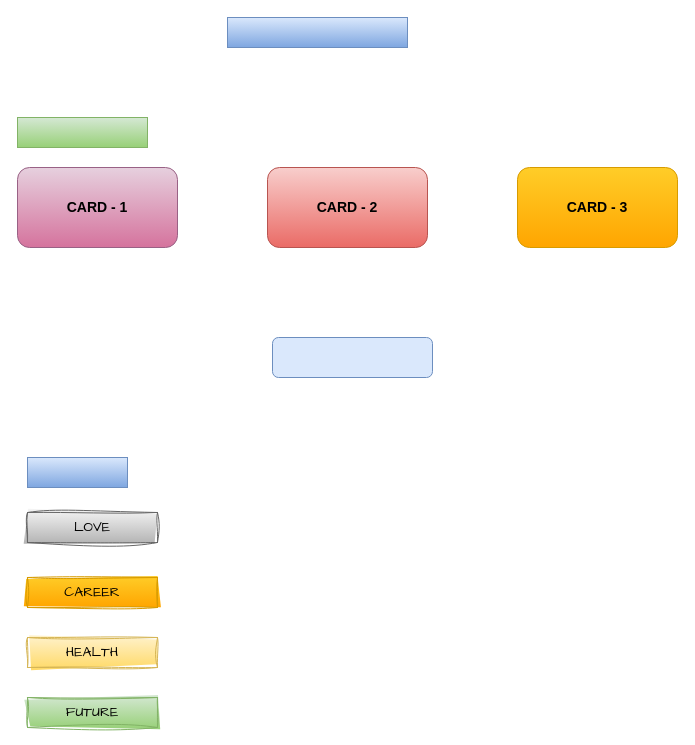
Some shapes in this 695 by 745 pixel diagram are drawn without their labels. Here are the shapes that lost their labels. From the top down, the centre of each, then its label:
At pixel 317 32: "Tarot Reading".
At pixel 82 132: "Select 3 Cards".
At pixel 352 357: "START READING".
At pixel 77 472: "Prediction".
